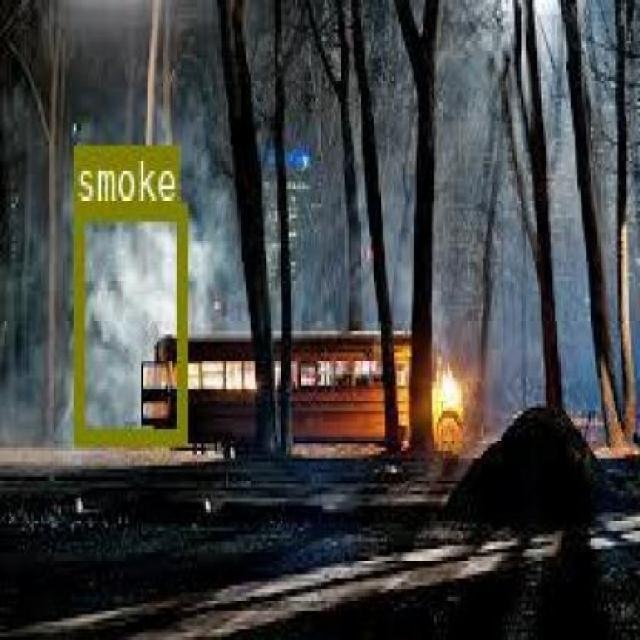Smoke: (72, 202, 185, 444)
